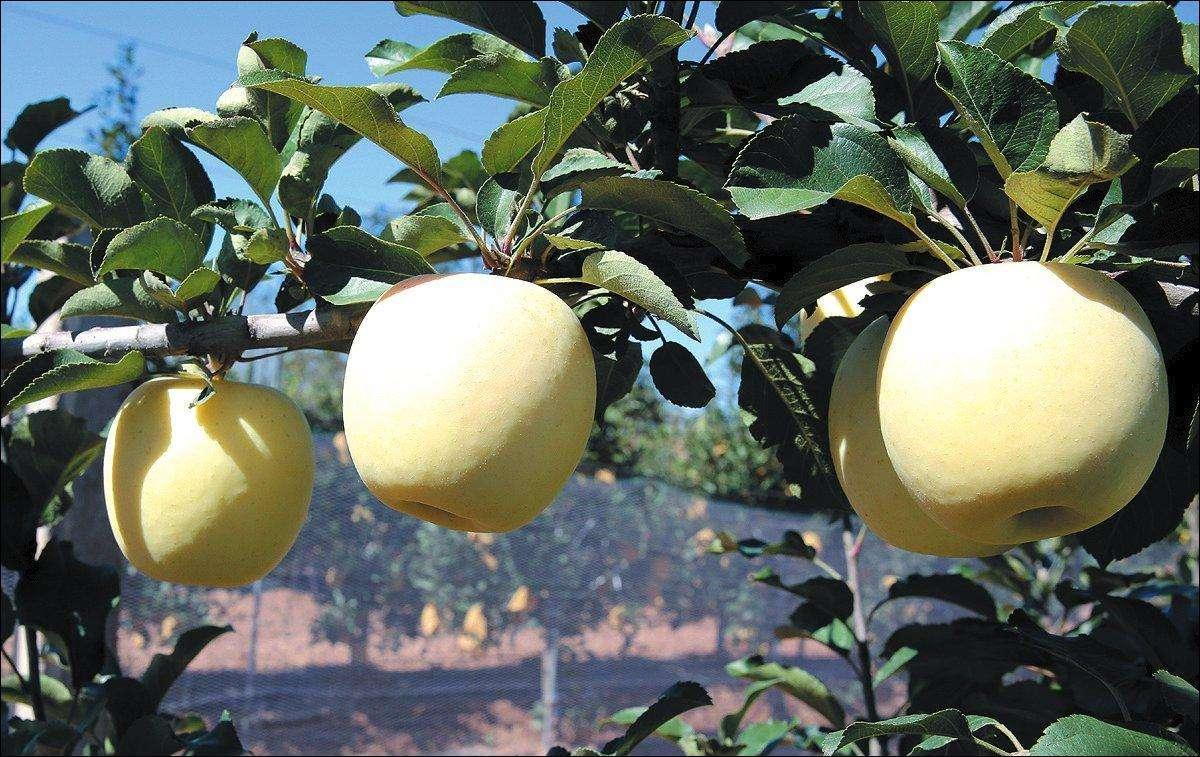apple: (879, 265, 1168, 545), (343, 269, 597, 537), (107, 379, 310, 603)
